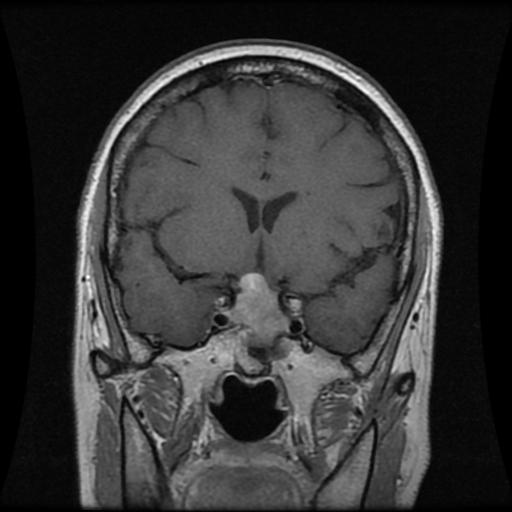Pituirity_tumour: (227, 272, 288, 342)
